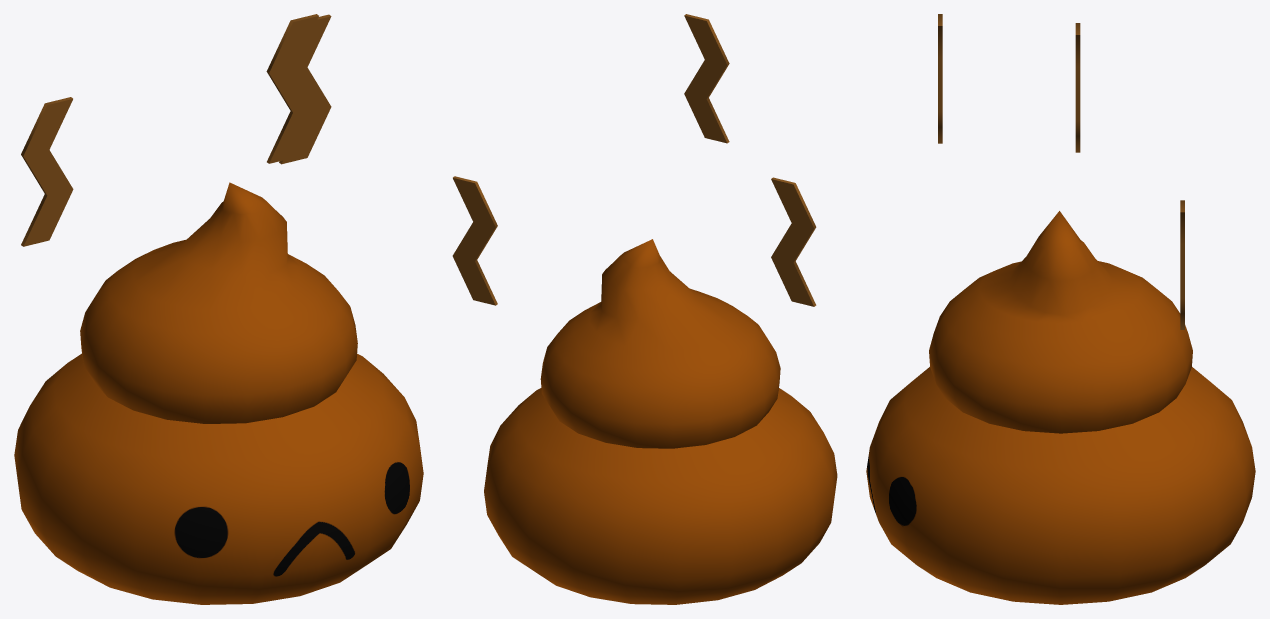
The model's file is poo.fbx.
The picture shows the model from 3 angles, left to right: view 1: azimuth 30°, elevation 25°; view 2: azimuth 150°, elevation 25°; view 3: azimuth 270°, elevation 25°; orthographic projection. The views are drawn at different scales.
Parts seen in each view (by area): view 1: poo_body, smell_line_1, smell_line, smell_line_2; view 2: poo_body, smell_line_2, smell_line_1, smell_line; view 3: poo_body, smell_line, smell_line_2, smell_line_1.
Boxes of the visible parts, x1,y1,x2,y2 form: poo_body: [14, 182, 423, 604]; smell_line_1: [266, 14, 318, 163]; smell_line: [21, 97, 73, 246]; smell_line_2: [279, 14, 331, 164]; poo_body: [484, 239, 837, 604]; smell_line_2: [452, 176, 497, 305]; smell_line_1: [684, 14, 729, 143]; smell_line: [771, 177, 816, 306]; poo_body: [866, 211, 1255, 604]; smell_line: [1075, 23, 1080, 152]; smell_line_2: [1180, 200, 1184, 329]; smell_line_1: [938, 14, 942, 143].
Bounding box in the file's own units: 304 × 457 × 296.
Materials: 2 (2 with a texture image).
